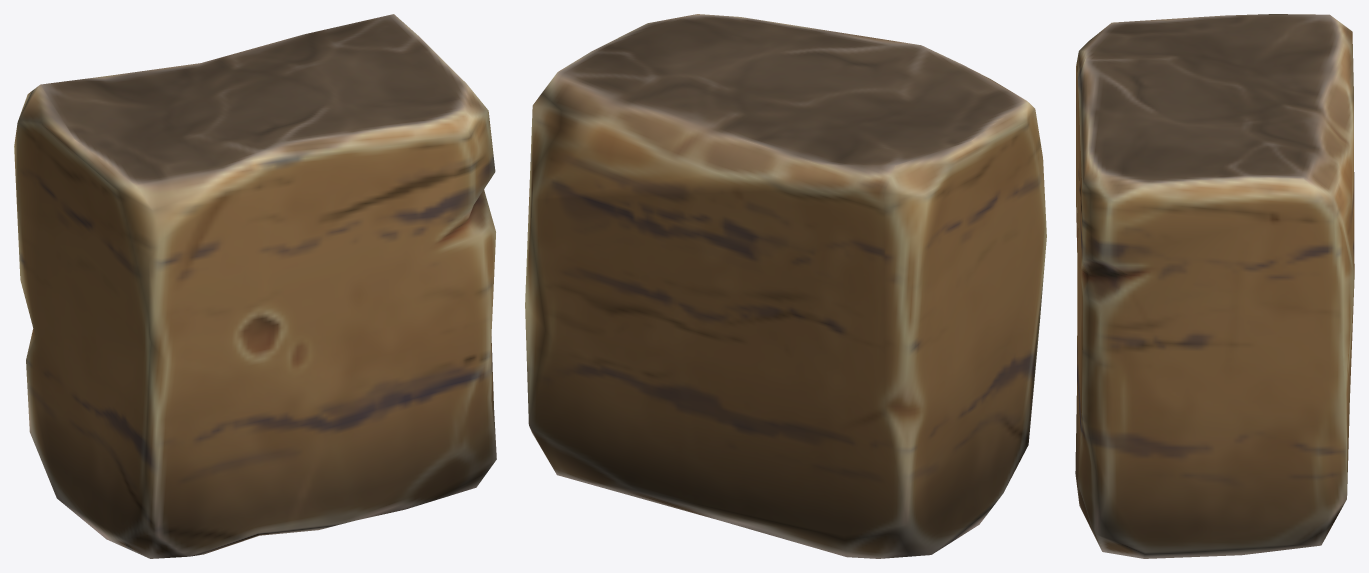
Rendered from SM_Gem_EyeOfTiger_007.fbx.
3 renders of one model, left to right at view 1: azimuth 30°, elevation 25°; view 2: azimuth 150°, elevation 25°; view 3: azimuth 270°, elevation 25°, orthographic. The views are drawn at different scales.
Visible parts, largest first — view 1: SM_Gem_EyeOfTiger_007; view 2: SM_Gem_EyeOfTiger_007; view 3: SM_Gem_EyeOfTiger_007.
Part boxes in pixels (x1,y1,x2,y2): SM_Gem_EyeOfTiger_007: (14,14,496,558); SM_Gem_EyeOfTiger_007: (525,14,1046,558); SM_Gem_EyeOfTiger_007: (1075,14,1354,558).
Size of the model in its own units: 32.56 by 32.83 by 21.32.
